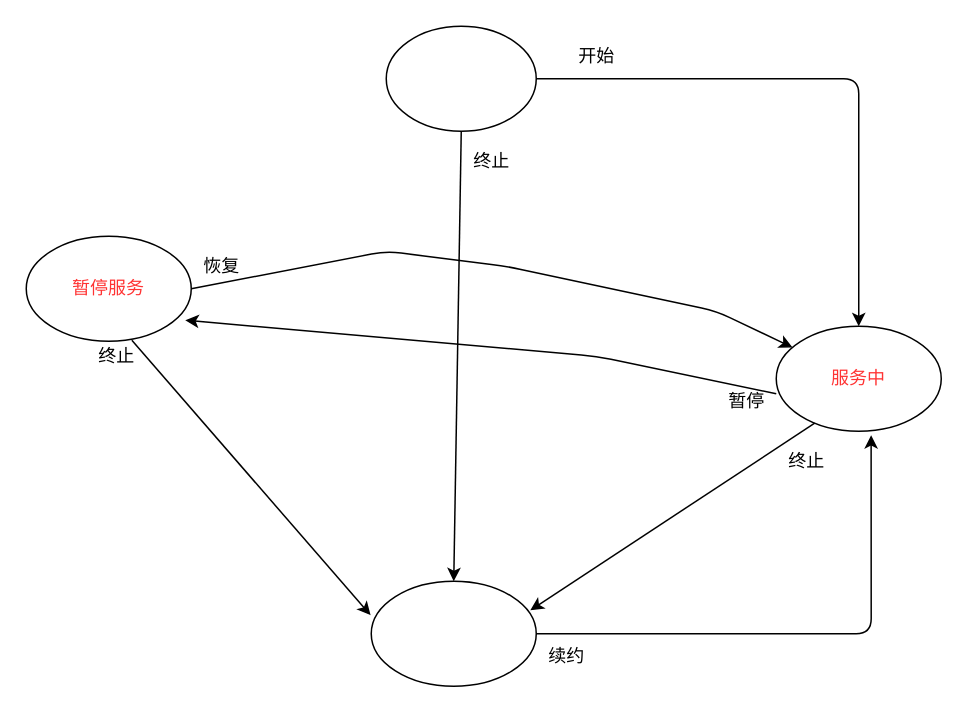
The diagram is 968 pixels wide and 713 high, and some of its shapes have lost their labels. The box of each missing label's shape, as (x1, y1, x2, y2) in pixels:
服务结束: (370, 580, 536, 686)
未开始: (385, 25, 536, 131)
